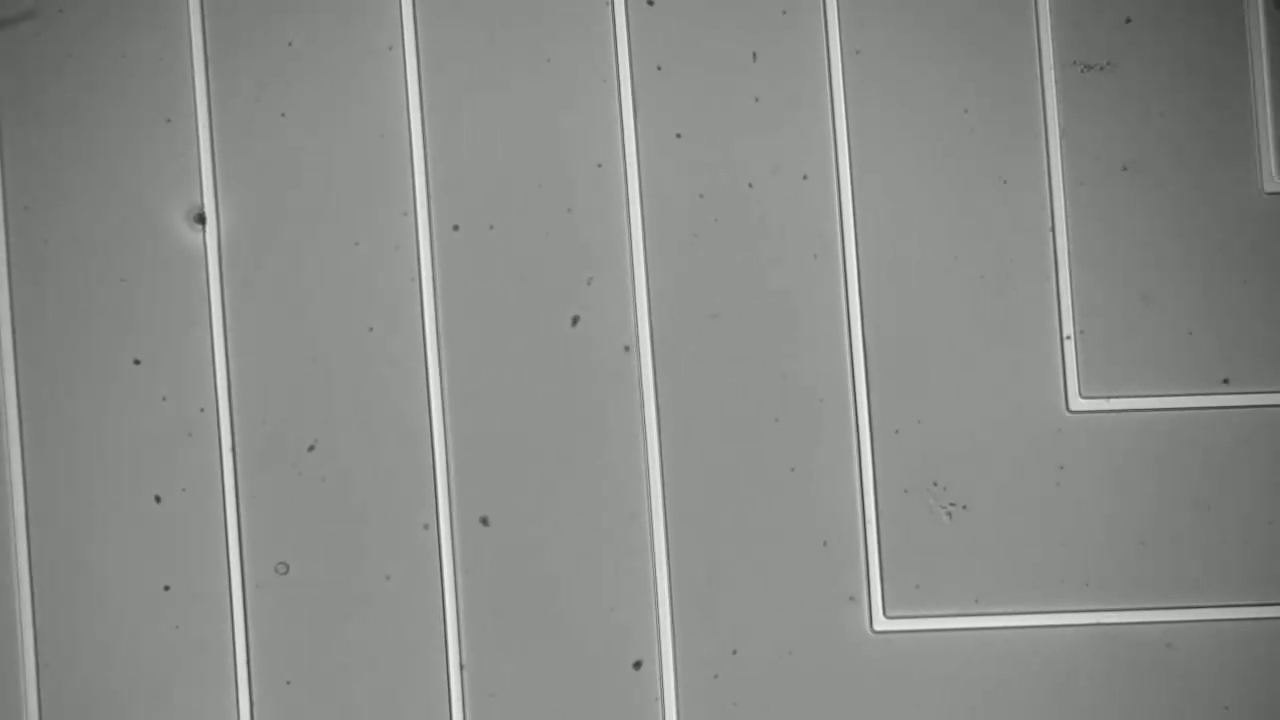stains_enbedded: (185, 195, 226, 247)
